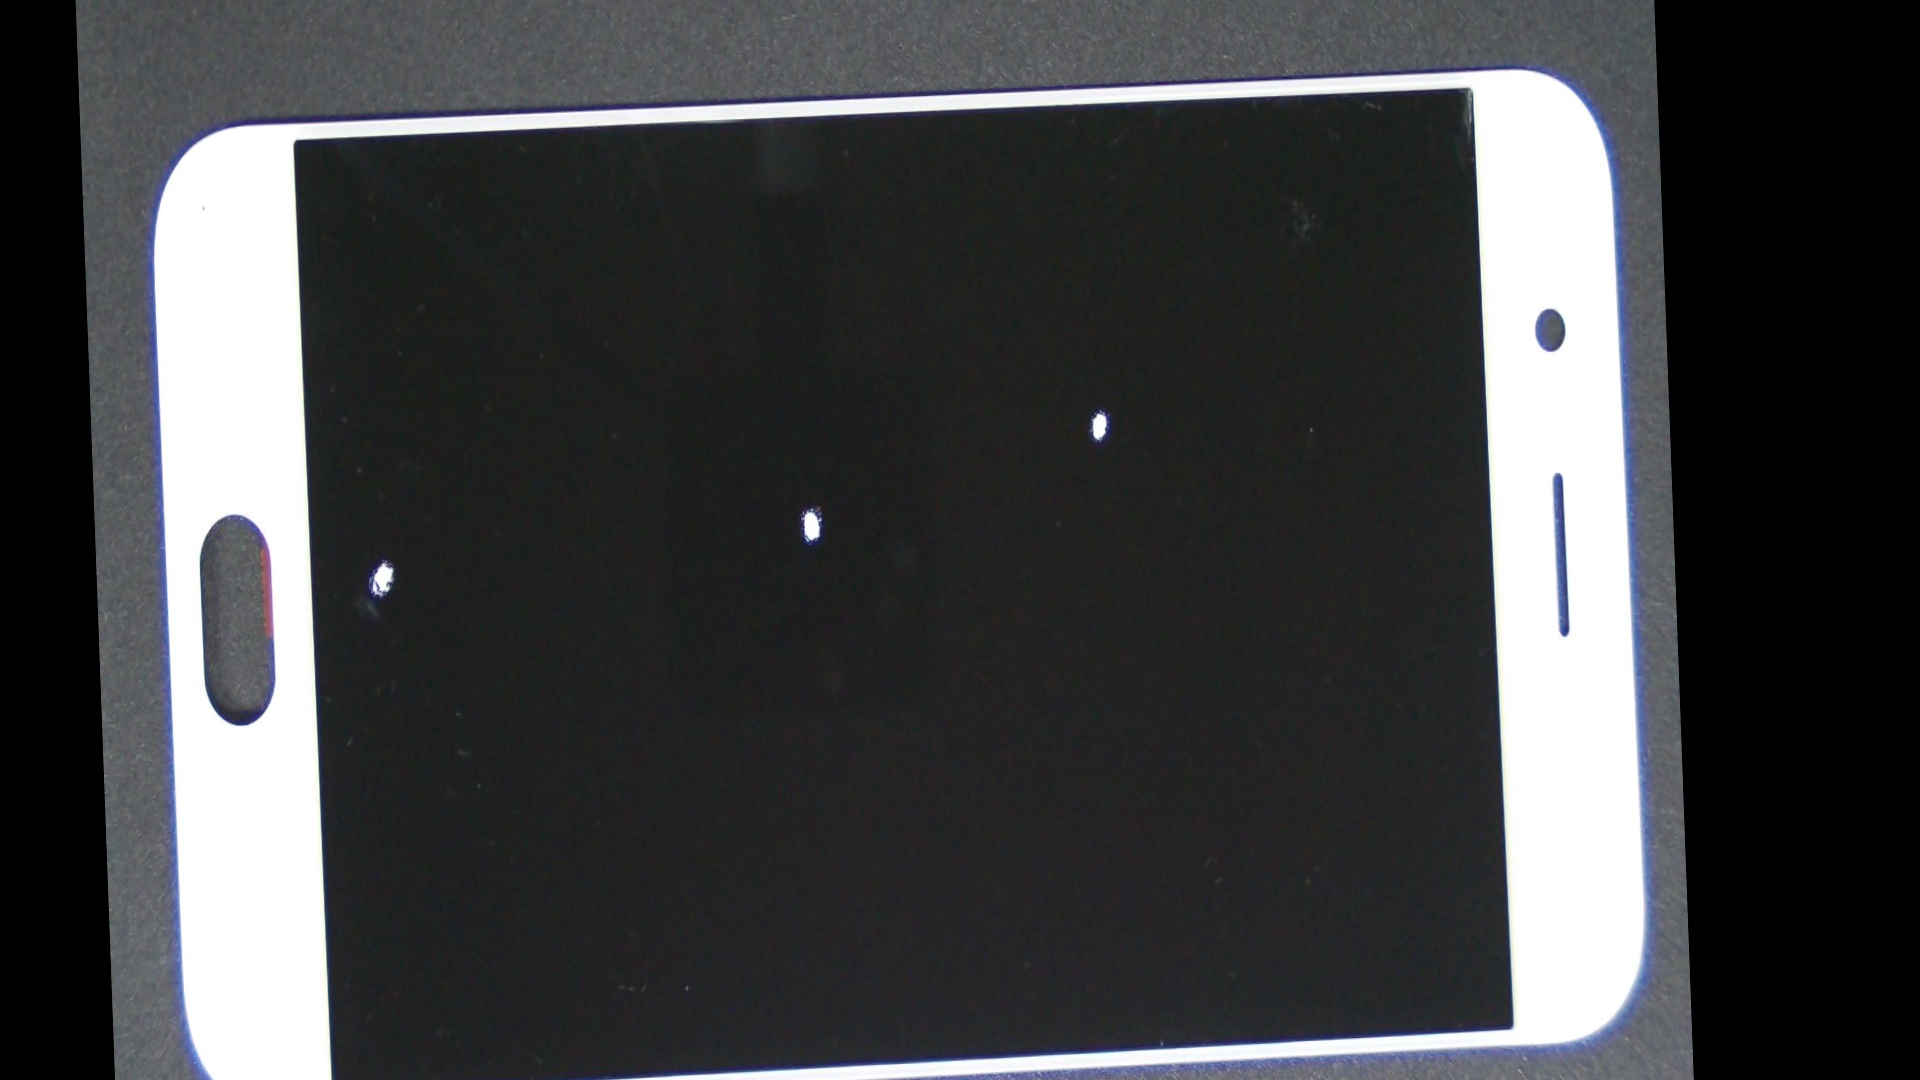oil: (585, 141, 1609, 675), (442, 200, 1176, 810), (228, 241, 533, 873)
